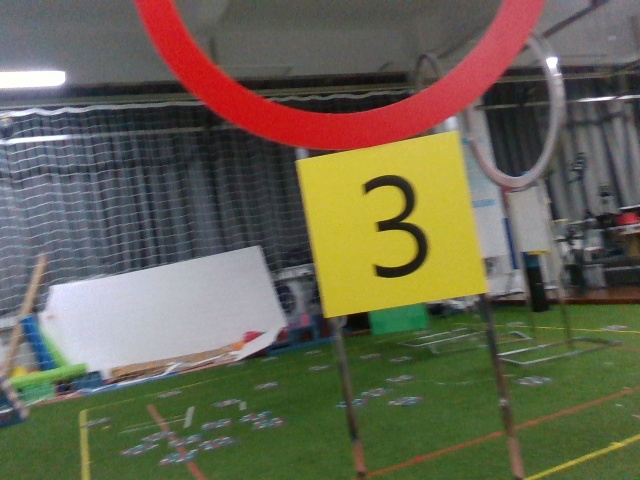target: (314, 154, 477, 302)
